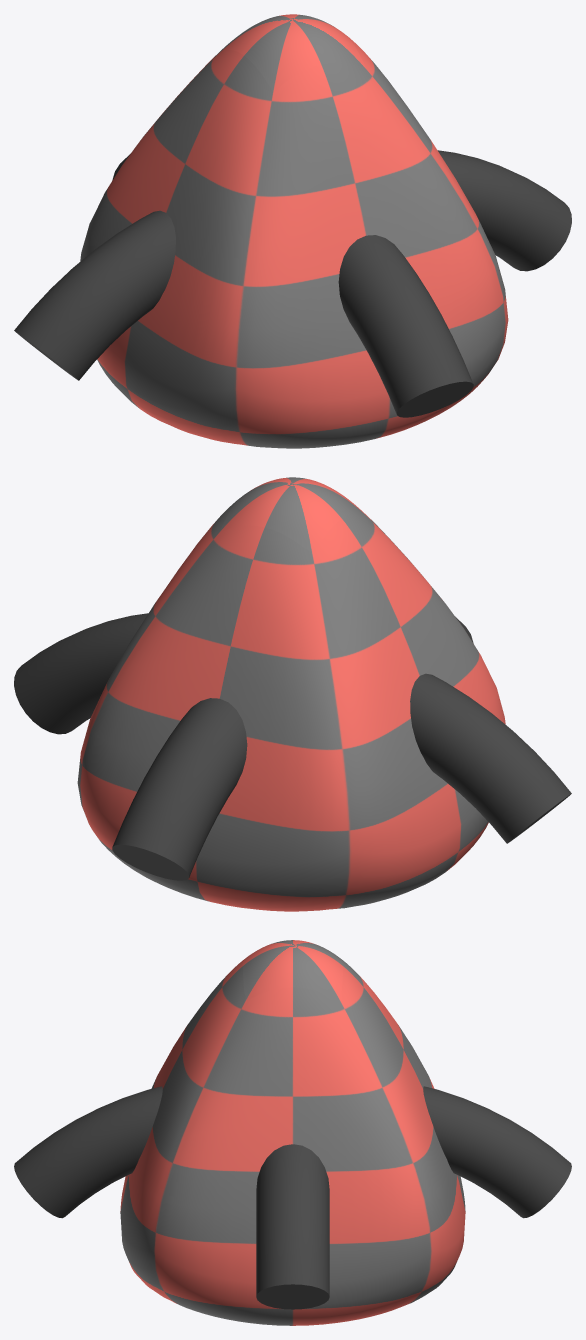
The model's file is Body(Pyramidal)+Colour(More_Red)+Arms(Bent_Down)+Pattern(Checkered).fbx.
3 renders of one model, top to bottom at view 1: azimuth 30°, elevation 25°; view 2: azimuth 150°, elevation 25°; view 3: azimuth 270°, elevation 25°, orthographic. The views are drawn at different scales.
Visible parts, largest first — view 1: Body(Pyramidal)+Colour(More_Red)+Arms(Bent_Down)+Pattern(Che (×4); view 2: Body(Pyramidal)+Colour(More_Red)+Arms(Bent_Down)+Pattern(Che (×4); view 3: Body(Pyramidal)+Colour(More_Red)+Arms(Bent_Down)+Pattern(Che (×4).
Boxes of the visible parts, x1,y1,x2,y2 form: Body(Pyramidal)+Colour(More_Red)+Arms(Bent_Down)+Pattern(Che (×4): (14, 14, 571, 448); Body(Pyramidal)+Colour(More_Red)+Arms(Bent_Down)+Pattern(Che (×4): (14, 477, 571, 911); Body(Pyramidal)+Colour(More_Red)+Arms(Bent_Down)+Pattern(Che (×4): (14, 940, 571, 1325).
Bounding box in the file's own units: 60.67 × 40 × 60.67.
Materials: 2 (2 with a texture image).
